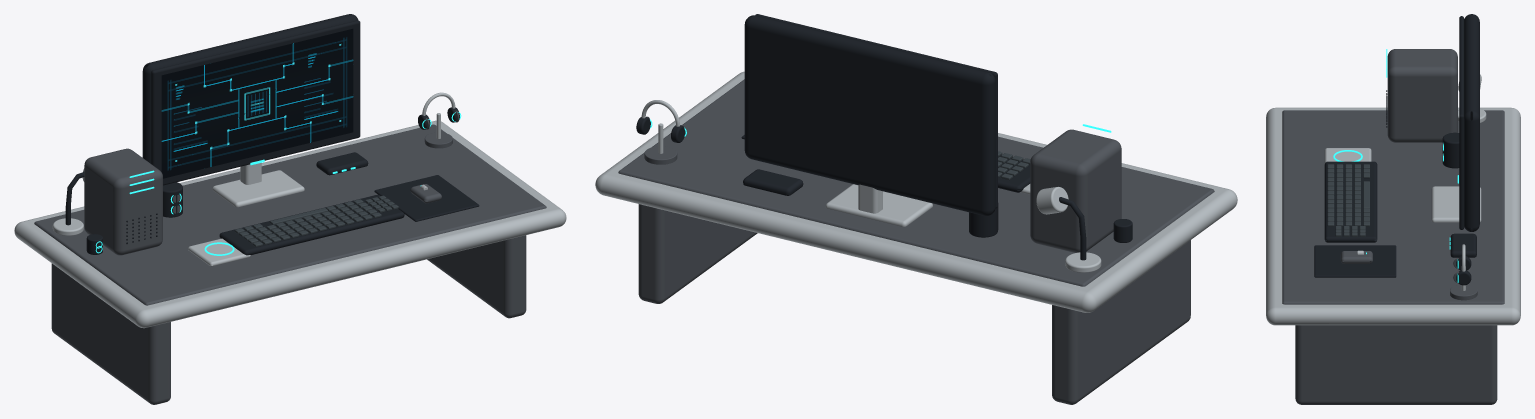
File: futuristic-workstation.glb
The picture shows the model from 3 angles, left to right: view 1: azimuth 30°, elevation 25°; view 2: azimuth 150°, elevation 25°; view 3: azimuth 270°, elevation 25°; orthographic projection. The views are drawn at different scales.
Visible parts, largest first — view 1: Desk_Inset_Surface, Monitor_Emissive_Display, Desk_Rim, Desk_Slab_Leg_L, PC_Tower, Monitor_Front_Bezel, Desk_Slab_Leg_R, Monitor_Rear_Housing, Mouse_Pad, Keyboard_Base, Monitor_Stand_Foot, Wireless_Charger (+2 smaller); view 2: Monitor_Rear_Housing, Desk_Inset_Surface, Desk_Rim, Desk_Slab_Leg_L, PC_Tower, Desk_Slab_Leg_R, Monitor_Stand_Foot, Desk_Hub, Monitor_Front_Bezel, Lamp_Head, Speaker_Cabinet, Monitor_Stand_Neck (+2 smaller); view 3: Desk_Inset_Surface, Desk_Slab_Leg_R, Desk_Rim, PC_Tower, Monitor_Rear_Housing, Keyboard_Base, Mouse_Pad, Monitor_Front_Bezel, Monitor_Stand_Foot, Desk_Hub, Wireless_Charger, Speaker_Cabinet (+2 smaller).
Part boxes in pixels (<box>): Desk_Inset_Surface: <box>34,124,546,305</box>; Monitor_Emissive_Display: <box>161,28,353,178</box>; Desk_Rim: <box>14,120,566,328</box>; Desk_Slab_Leg_L: <box>51,263,170,404</box>; PC_Tower: <box>84,148,162,255</box>; Monitor_Front_Bezel: <box>151,20,360,185</box>; Desk_Slab_Leg_R: <box>427,235,526,318</box>; Monitor_Rear_Housing: <box>142,14,358,163</box>; Mouse_Pad: <box>374,175,479,221</box>; Keyboard_Base: <box>219,194,404,255</box>; Monitor_Stand_Foot: <box>212,170,304,207</box>; Wireless_Charger: <box>188,238,250,266</box>; Monitor_Rear_Housing: <box>744,15,995,215</box>; Desk_Inset_Surface: <box>618,79,1214,286</box>; Desk_Rim: <box>595,71,1237,312</box>; Desk_Slab_Leg_L: <box>1052,240,1190,404</box>; PC_Tower: <box>1030,129,1121,252</box>; Desk_Slab_Leg_R: <box>638,204,757,303</box>; Monitor_Stand_Foot: <box>825,184,932,226</box>; Desk_Hub: <box>743,169,803,195</box>; Monitor_Front_Bezel: <box>755,14,997,208</box>; Lamp_Head: <box>1036,186,1068,214</box>; Speaker_Cabinet: <box>969,203,998,237</box>; Monitor_Stand_Neck: <box>858,184,882,213</box>; Desk_Inset_Surface: <box>1282,110,1504,304</box>; Desk_Slab_Leg_R: <box>1295,325,1497,404</box>; Desk_Rim: <box>1266,107,1520,325</box>; PC_Tower: <box>1387,49,1457,142</box>; Monitor_Rear_Housing: <box>1464,14,1479,231</box>; Keyboard_Base: <box>1324,161,1377,242</box>; Mouse_Pad: <box>1314,245,1396,277</box>; Monitor_Front_Bezel: <box>1459,16,1464,229</box>; Monitor_Stand_Foot: <box>1431,186,1481,222</box>; Desk_Hub: <box>1450,233,1476,257</box>; Wireless_Charger: <box>1324,148,1371,163</box>; Speaker_Cabinet: <box>1442,132,1459,168</box>.
Bounding box in the file's own units: 3.34 × 1.91 × 1.74.
Materials: 7 (1 with a texture image).
